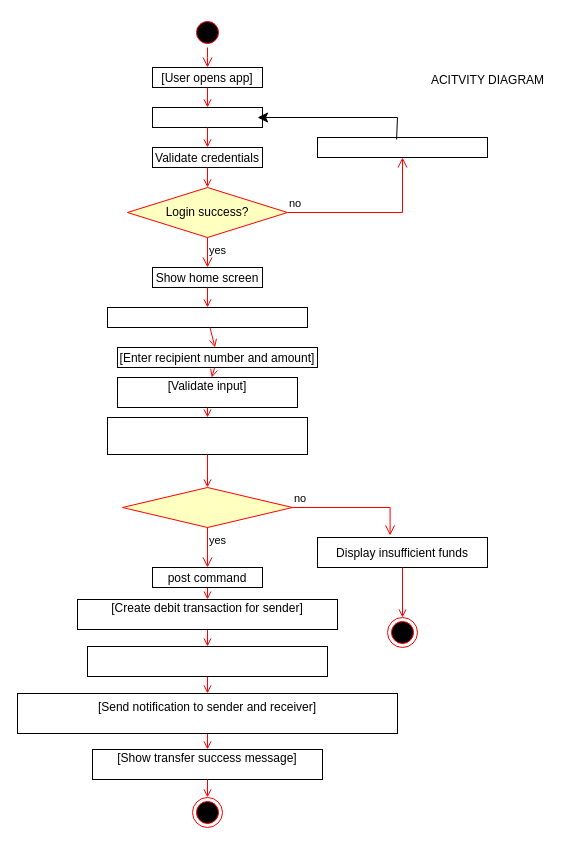
The diagram is 575 pixels wide and 845 high, and some of its shapes have lost their labels. Each missing label, with the centre of its shape:
"[Create credit transaction for recipient]" belongs at pixel 207 661.
"Check account balance]" belongs at pixel 207 435.
"Display error and retry login" belongs at pixel 402 147.
"Sufficient balance?" belongs at pixel 207 507.
"User logs in" belongs at pixel 207 117.
"User selects 'Send Money'" belongs at pixel 207 317.
